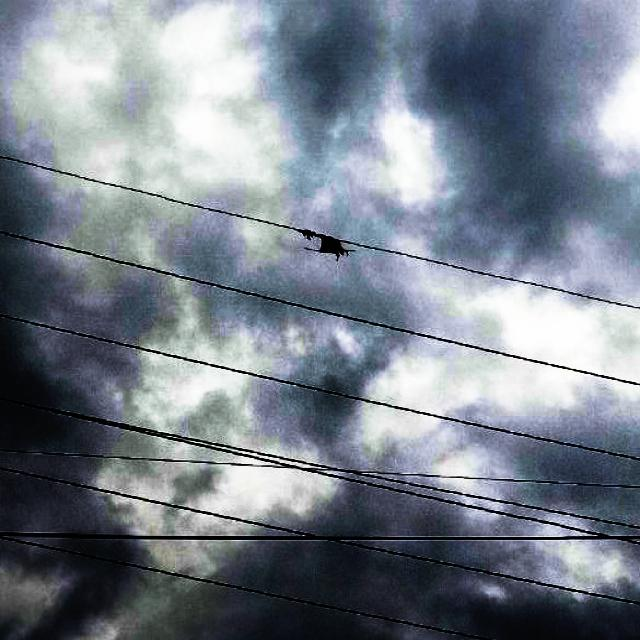obstruction: (276, 218, 364, 263)
wires: (0, 389, 639, 551), (3, 227, 637, 389), (2, 311, 636, 467), (0, 467, 639, 610), (1, 534, 504, 639), (3, 444, 639, 498), (5, 152, 300, 238), (353, 240, 639, 309)
